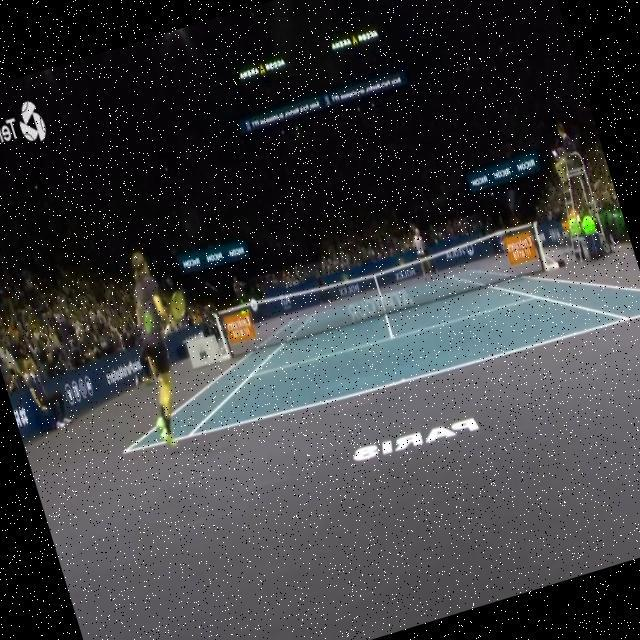court: (99, 217, 640, 474)
net: (212, 213, 549, 365)
player: (103, 238, 227, 456)
